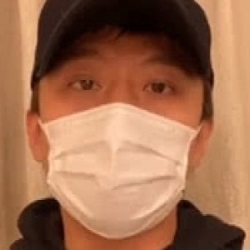mask: (37, 103, 196, 239)
